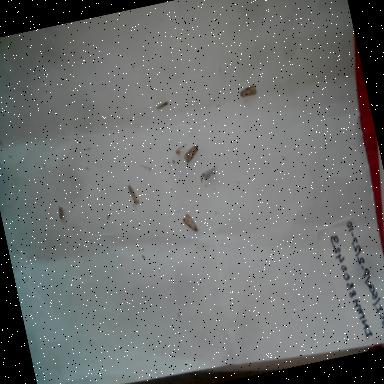pbw: (178, 138, 205, 168), (177, 206, 203, 237), (196, 158, 222, 184), (122, 180, 144, 210), (235, 80, 260, 100), (49, 200, 69, 225), (153, 98, 170, 112)
